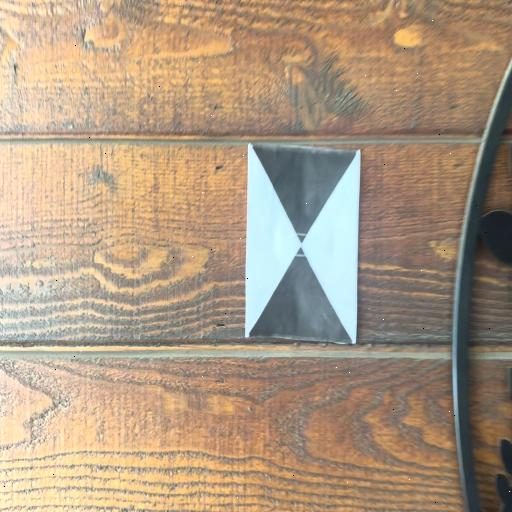target: (248, 143, 356, 341)
